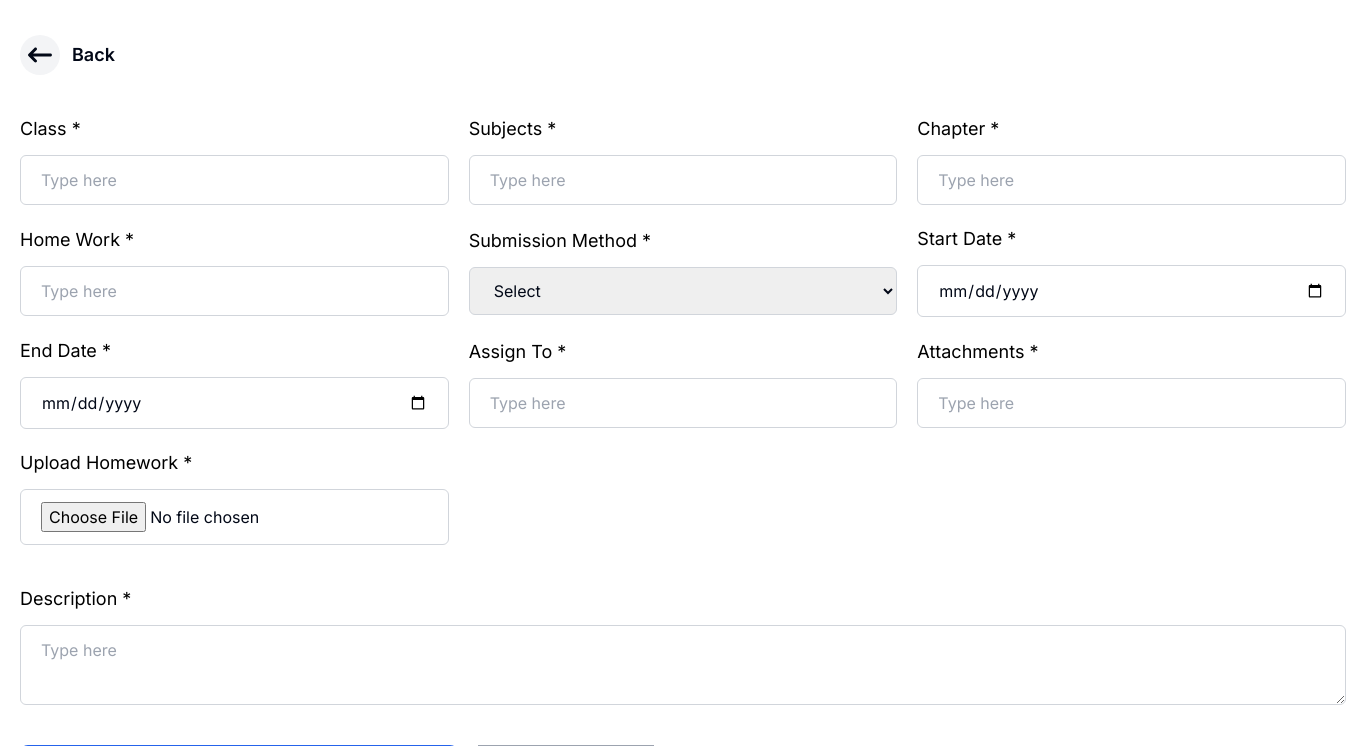
AddHomeWork Component › resets form data on cancel
Note: Fill out the form and cancel
Type "1A" into the field labelled "Class *" at (234, 180), box [20,155,449,205]
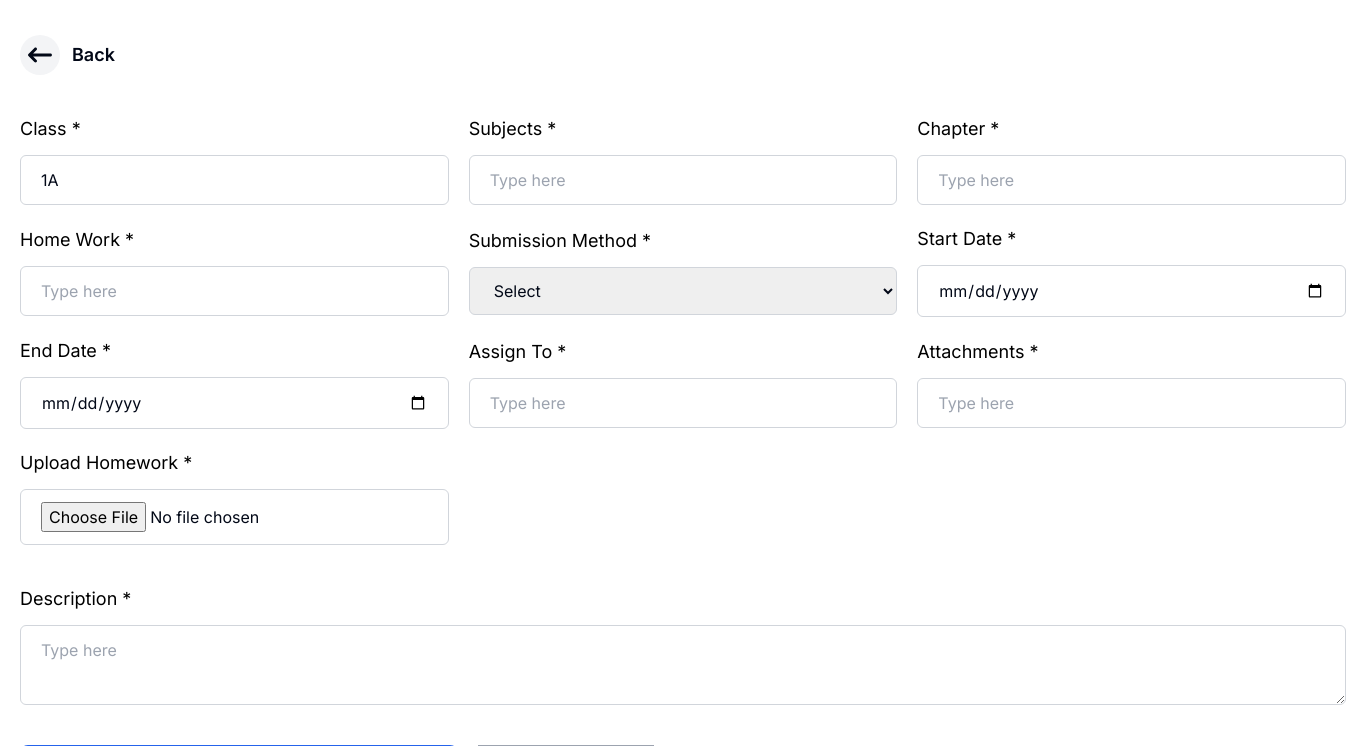
Type "Math" into the field labelled "Subjects *" at (683, 180), box [469,155,897,205]
(page scrolled)
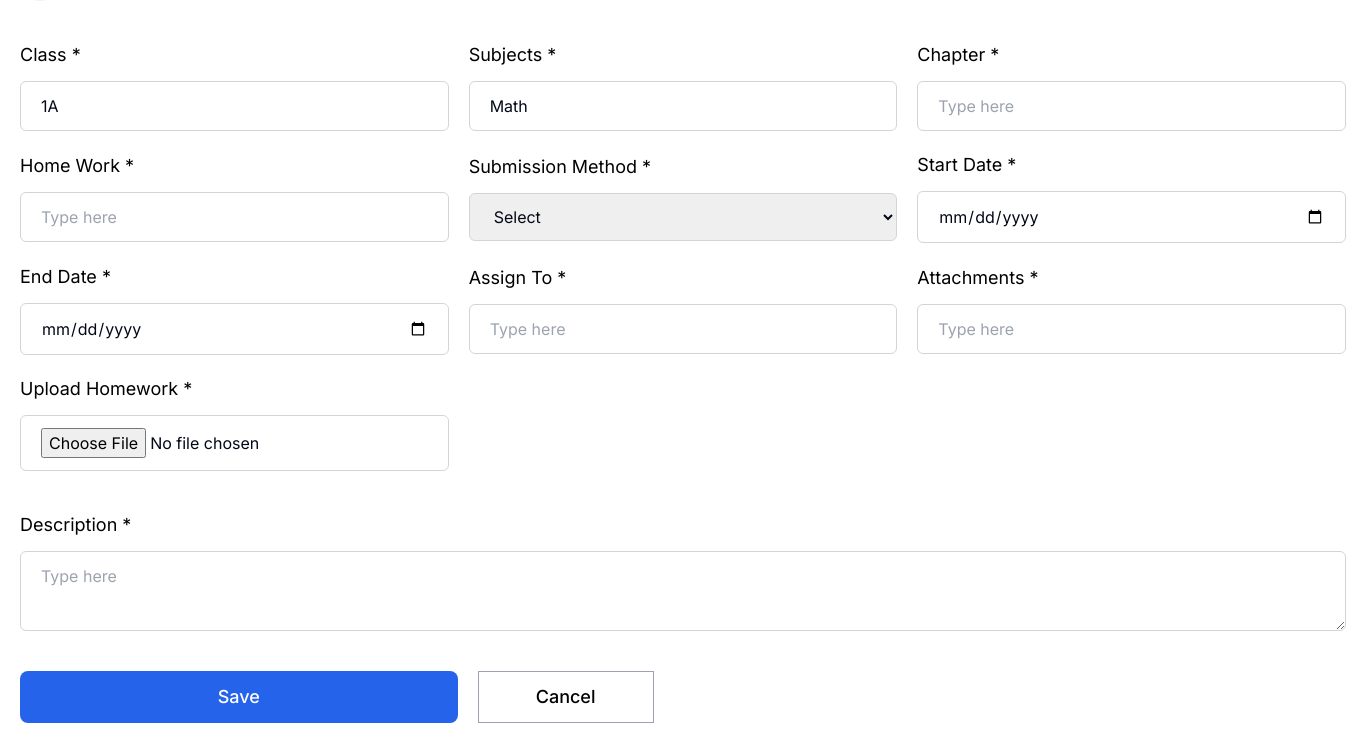
Click the button "Cancel" at (566, 697), box [478,671,654,723]
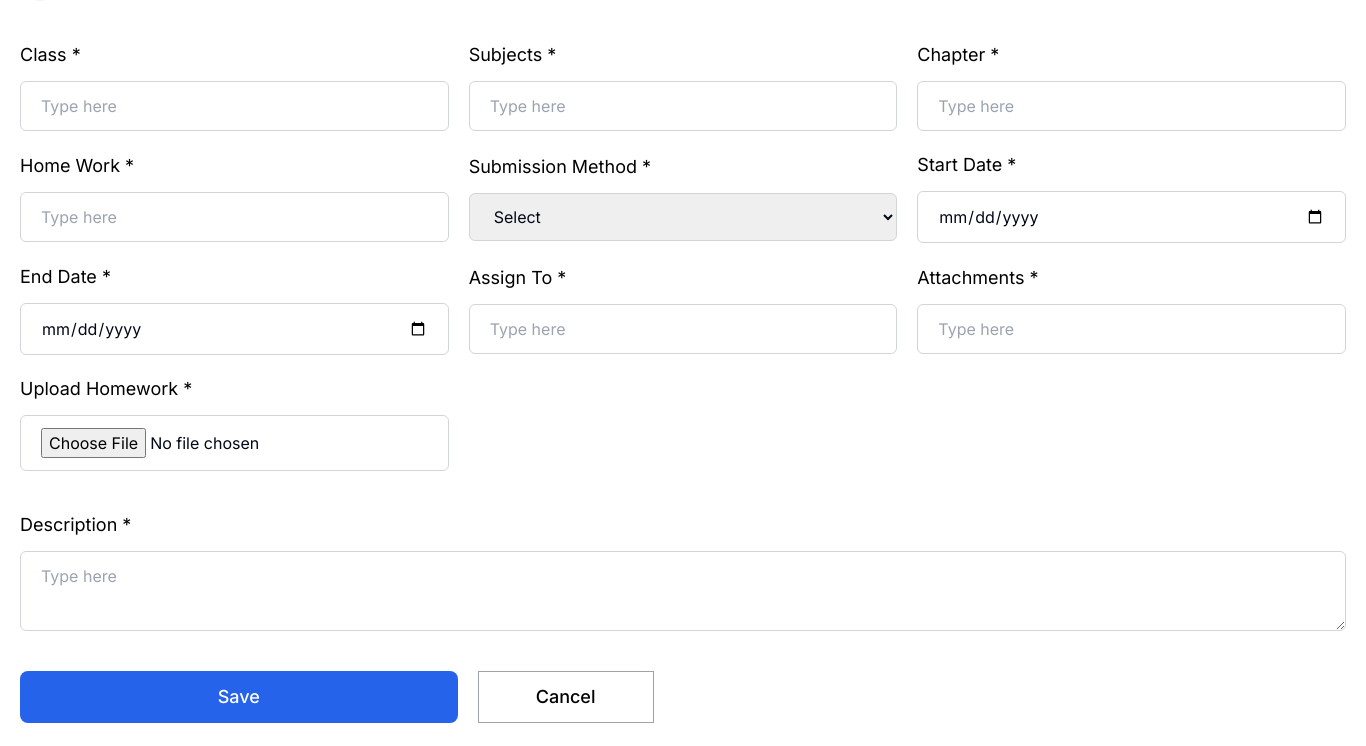
Check: the field labelled "Class *" is empty, box [20,81,449,131]
Check: the field labelled "Subjects *" is empty, box [469,81,897,131]
